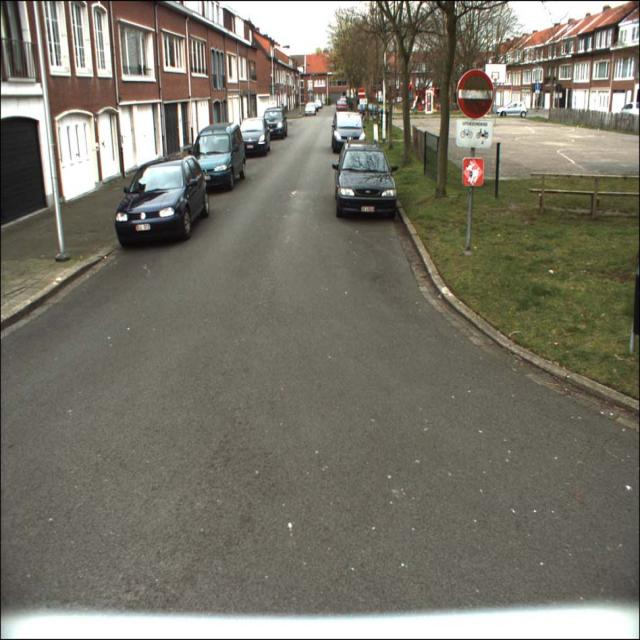girisyok: (457, 69, 494, 120), (358, 88, 366, 99)
